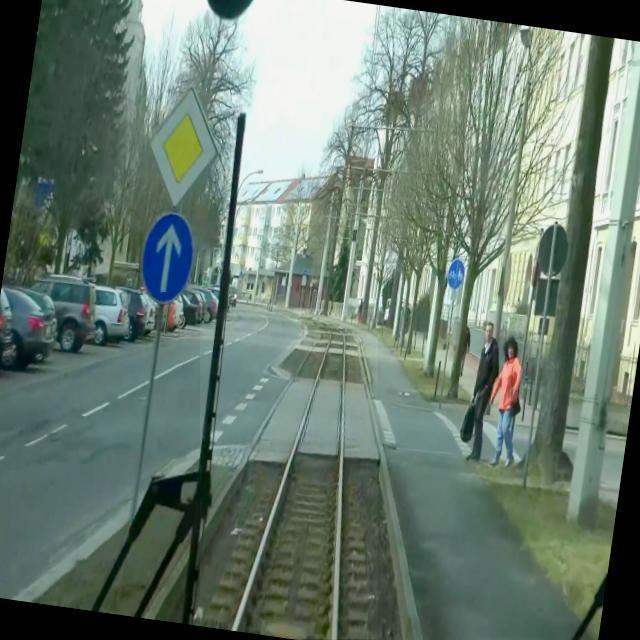rail: (201, 310, 379, 640)
